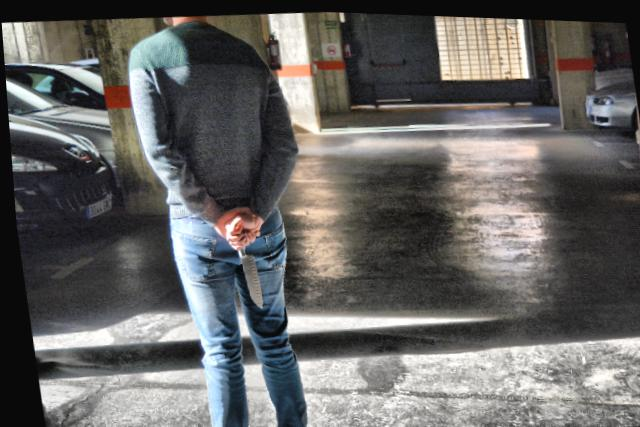knife: (227, 235, 263, 311)
